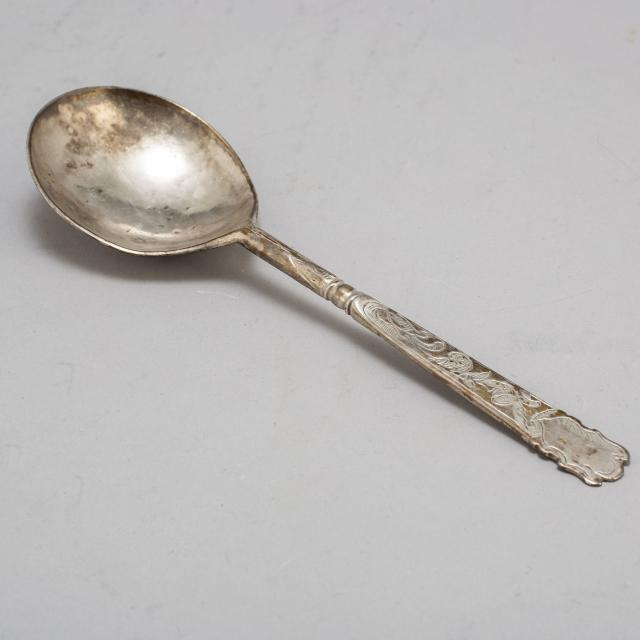spoon: (0, 77, 632, 496)
